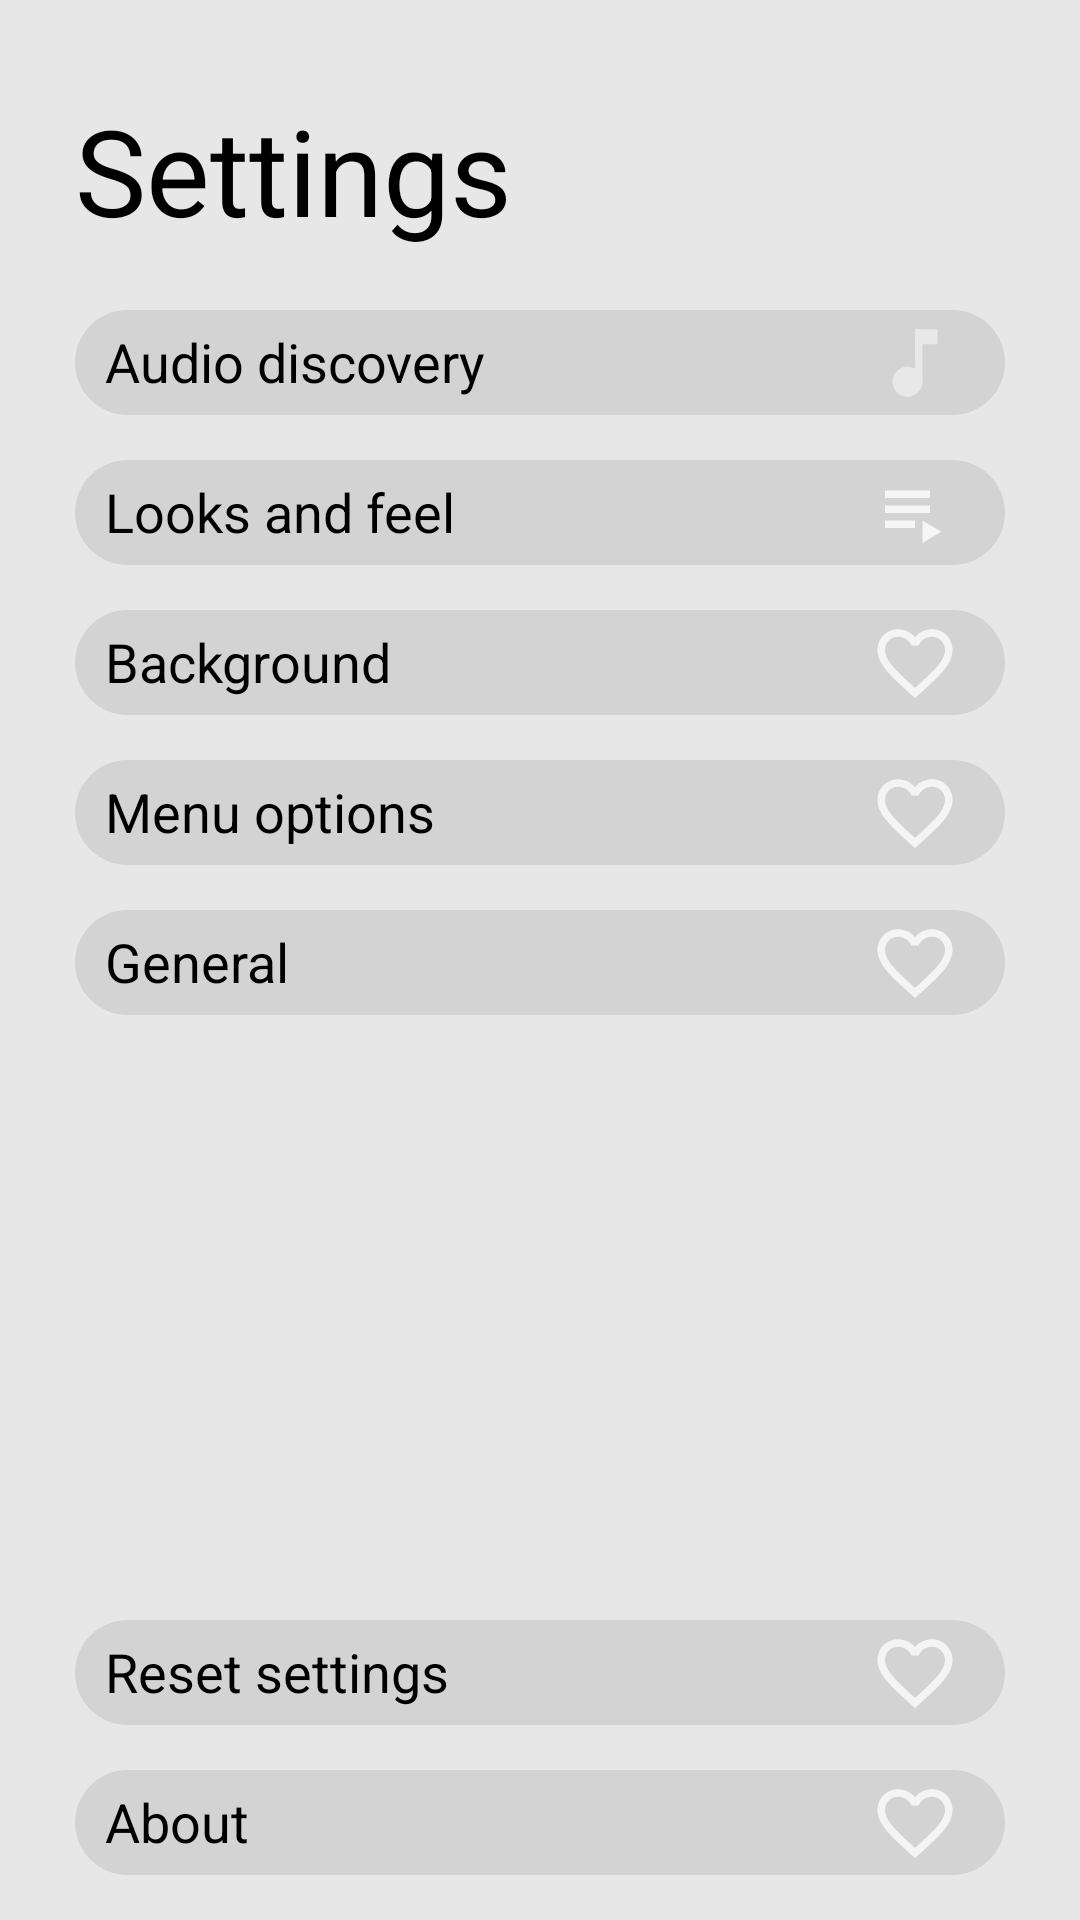

Named icons in this screenshot (1080 × 1920) and their bounding boxes, (x1, y1, x2, y2):
favorite: (878, 629, 952, 697), (878, 779, 952, 847), (878, 929, 952, 997), (878, 1639, 952, 1707), (878, 1789, 952, 1857)
playlist: (885, 491, 940, 542)
